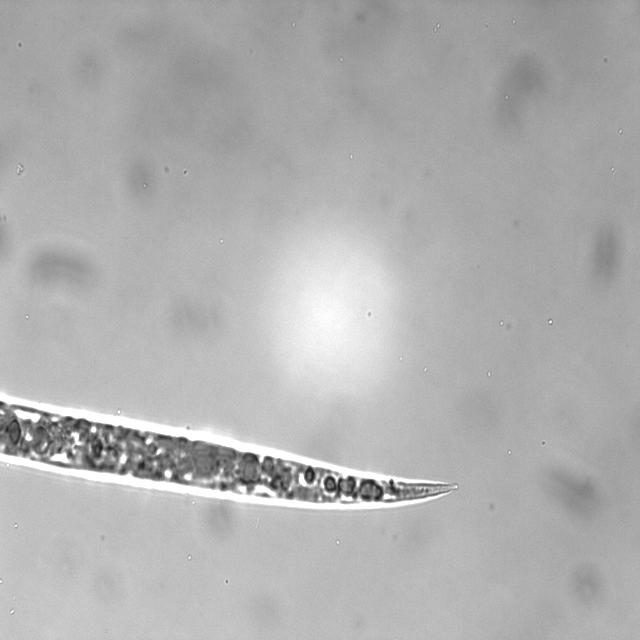Meloidogyne: (197, 437, 463, 514)
